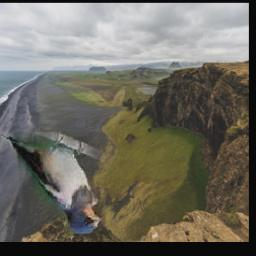Swallow: (2, 133, 107, 235)
